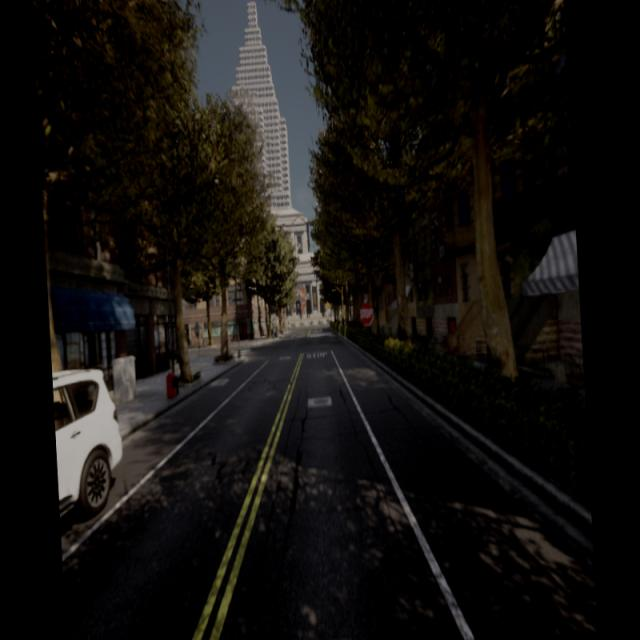stop sign: (357, 298, 376, 328)
